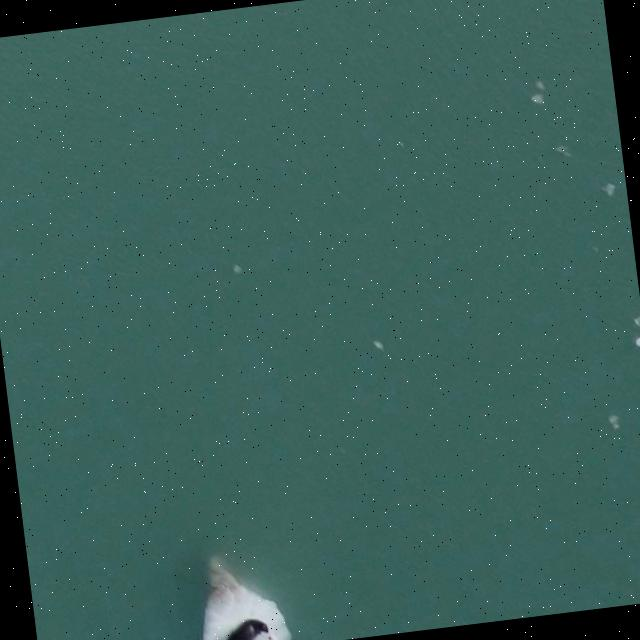seal: (225, 619, 267, 640)
